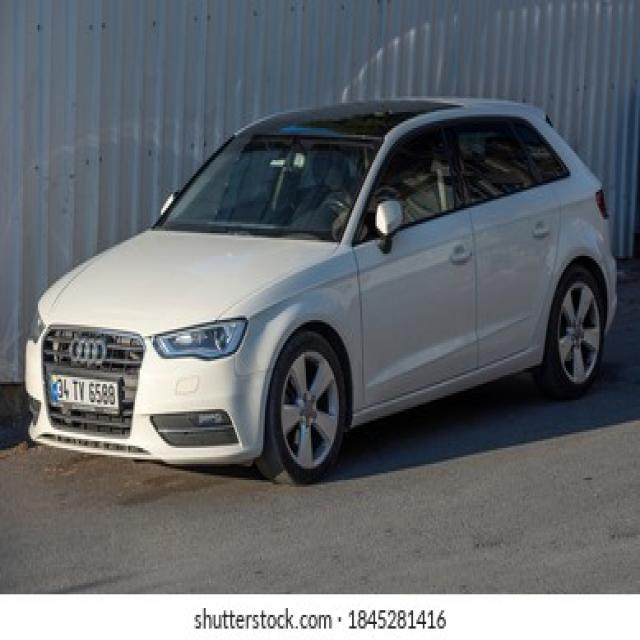audi: (66, 338, 114, 370)
